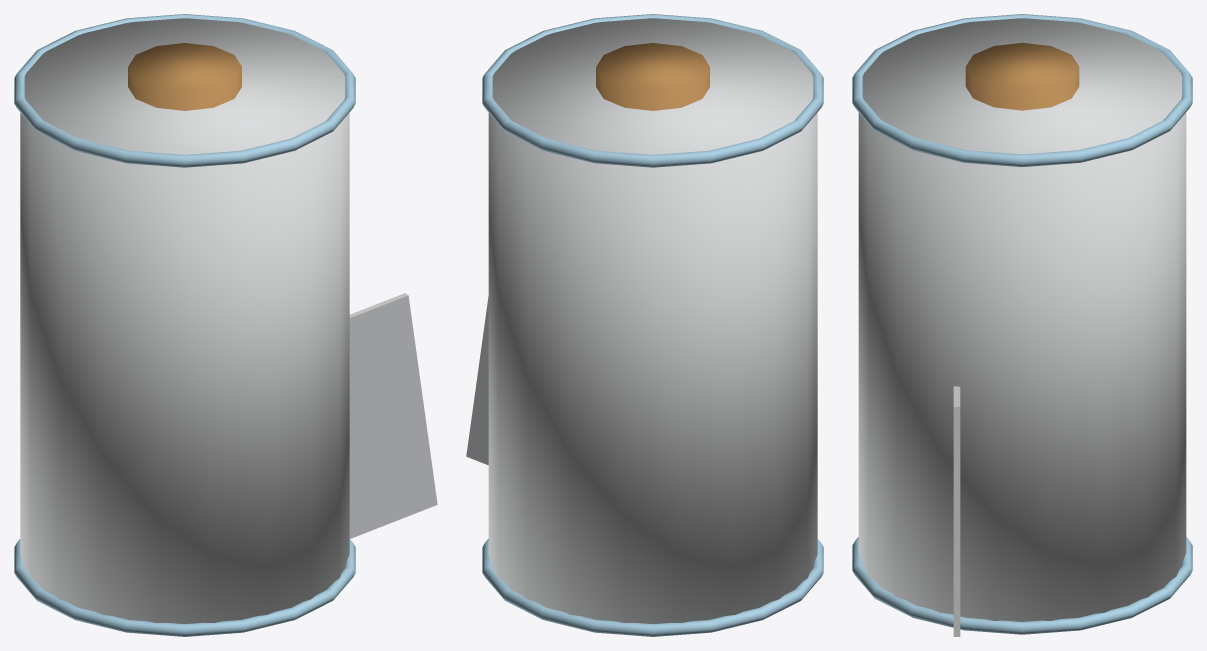
The model's file is paper-towel.glb.
3 renders of one model, left to right at view 1: azimuth 30°, elevation 25°; view 2: azimuth 150°, elevation 25°; view 3: azimuth 270°, elevation 25°, orthographic.
Visible parts, largest first — view 1: paper-towel; view 2: paper-towel; view 3: paper-towel.
Part boxes in pixels (x1,y1,x2,y2): paper-towel: (14,14,437,636); paper-towel: (466,14,823,636); paper-towel: (852,14,1192,636).
Bounding box in the file's own units: 0.1938 × 0.26 × 0.1556.
